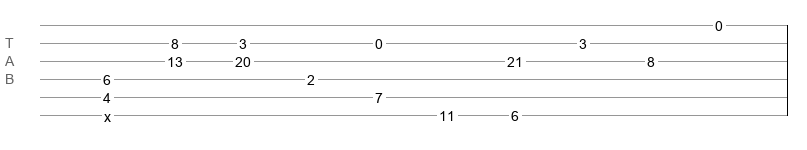0: (375, 36, 383, 46), (715, 18, 723, 28)
11: (439, 108, 455, 118)
13: (167, 54, 183, 64)
2: (307, 72, 315, 82)
20: (235, 54, 251, 64)
21: (507, 54, 523, 64)
3: (239, 36, 247, 46), (579, 36, 587, 46)
4: (103, 90, 111, 100)
6: (103, 72, 111, 82), (511, 108, 519, 118)
7: (375, 90, 383, 100)
8: (171, 36, 179, 46), (647, 54, 655, 64)
x: (104, 109, 111, 117)
